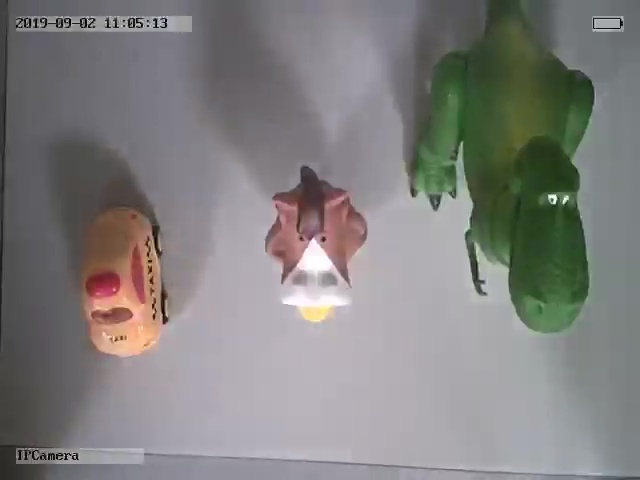car: (81, 205, 171, 359)
horse: (265, 165, 368, 324)
rex: (411, 2, 594, 332)
